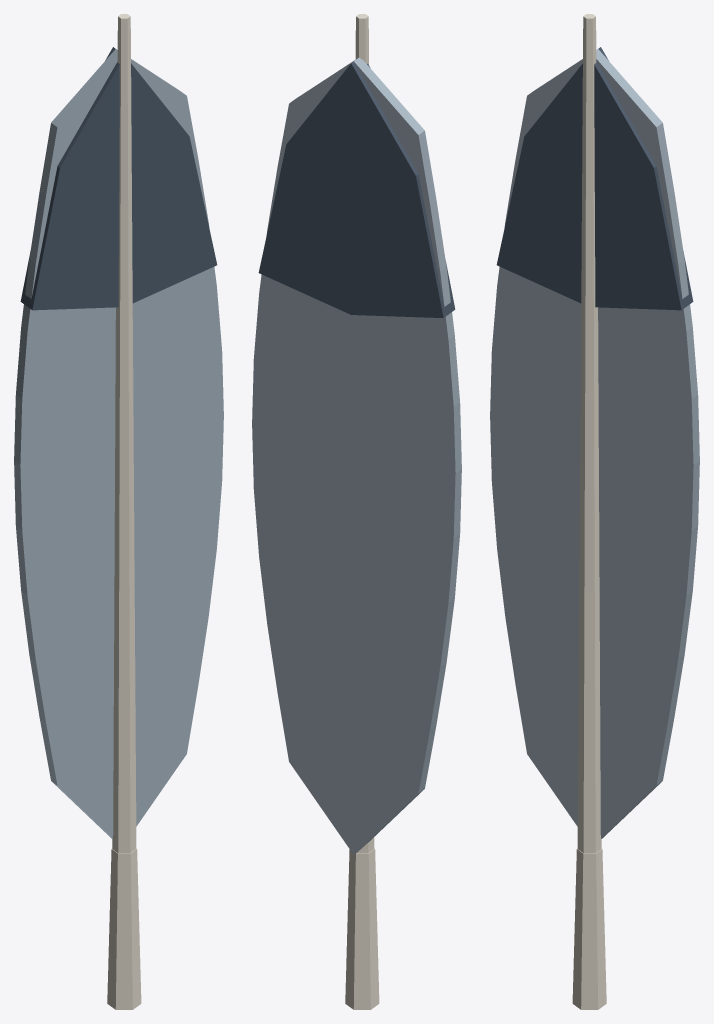
File: heron_feather.glb
The picture shows the model from 3 angles, left to right: view 1: azimuth 30°, elevation 25°; view 2: azimuth 150°, elevation 25°; view 3: azimuth 330°, elevation 25°; orthographic projection.
Parts seen in each view (by area): view 1: curio_heron_feather; view 2: curio_heron_feather; view 3: curio_heron_feather.
Part boxes in pixels (box(x1,y1,x2,y2)): curio_heron_feather: box(14, 14, 223, 1009); curio_heron_feather: box(252, 14, 461, 1009); curio_heron_feather: box(490, 14, 699, 1009).
Size of the model in its own units: 0.11 by 0.51 by 0.0185.
